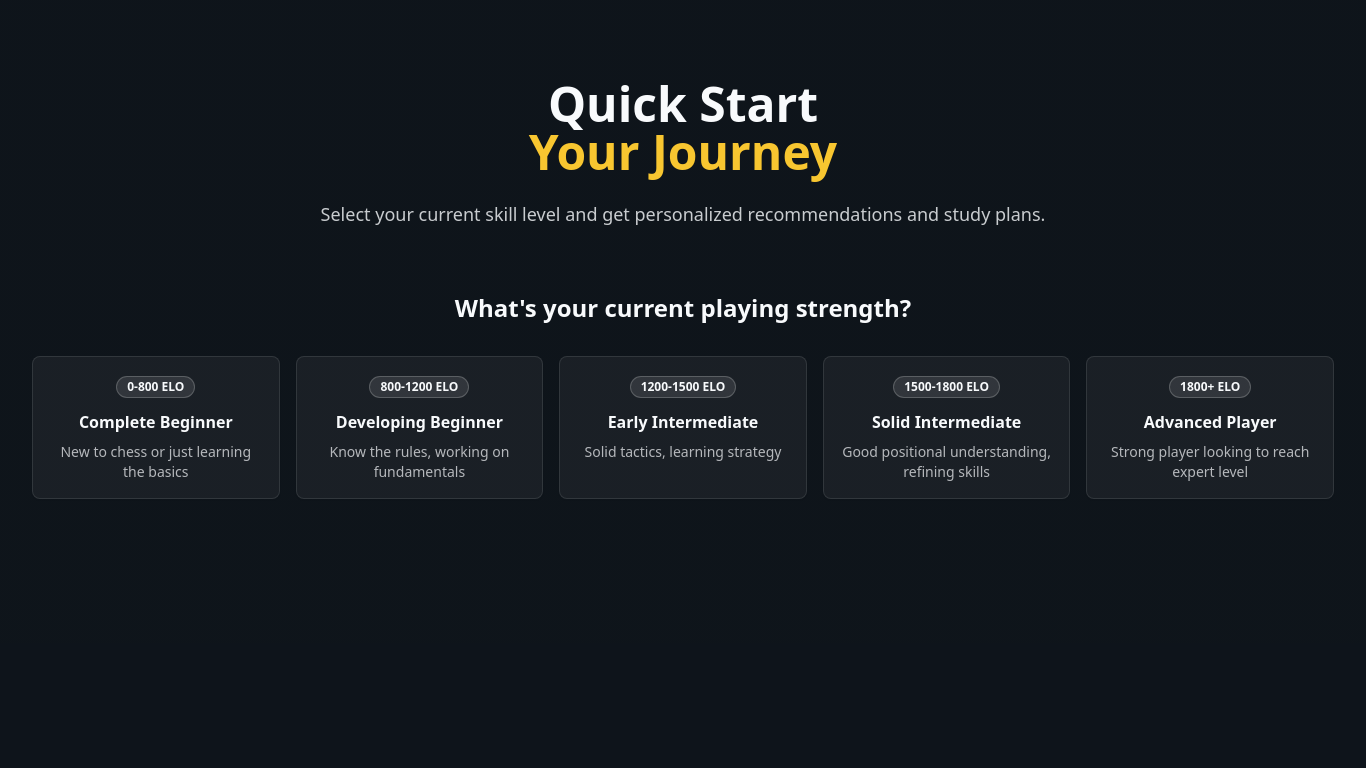
Test case: QuickStartSection › selects an ELO and shows personalized plan
// Click the first matching card
Click the text "0-800 ELO": (156, 387) [116,376,196,398]
(page scrolled)
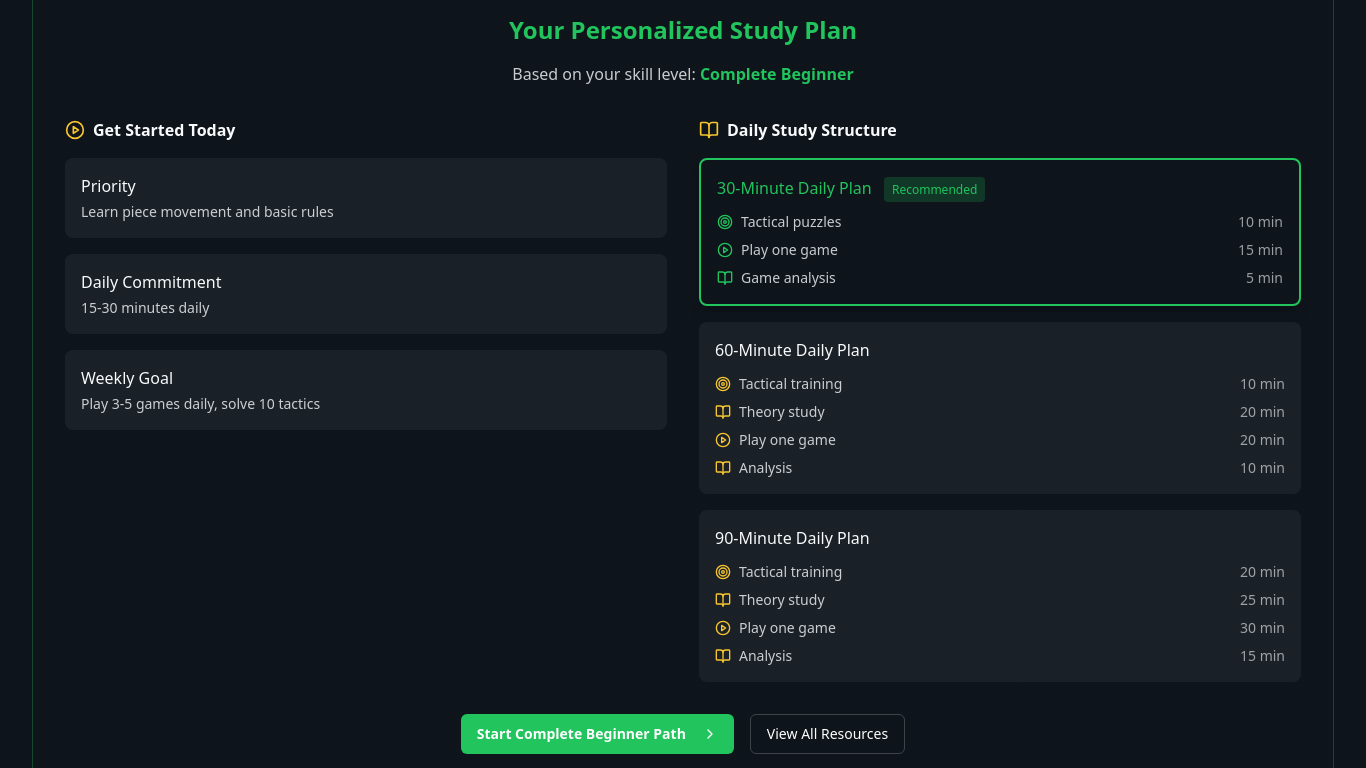
Now the heading "Your Personalized Study Plan" is shown, box [509,13,857,46]
